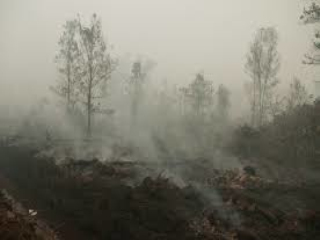smoke: (138, 143, 239, 223)
